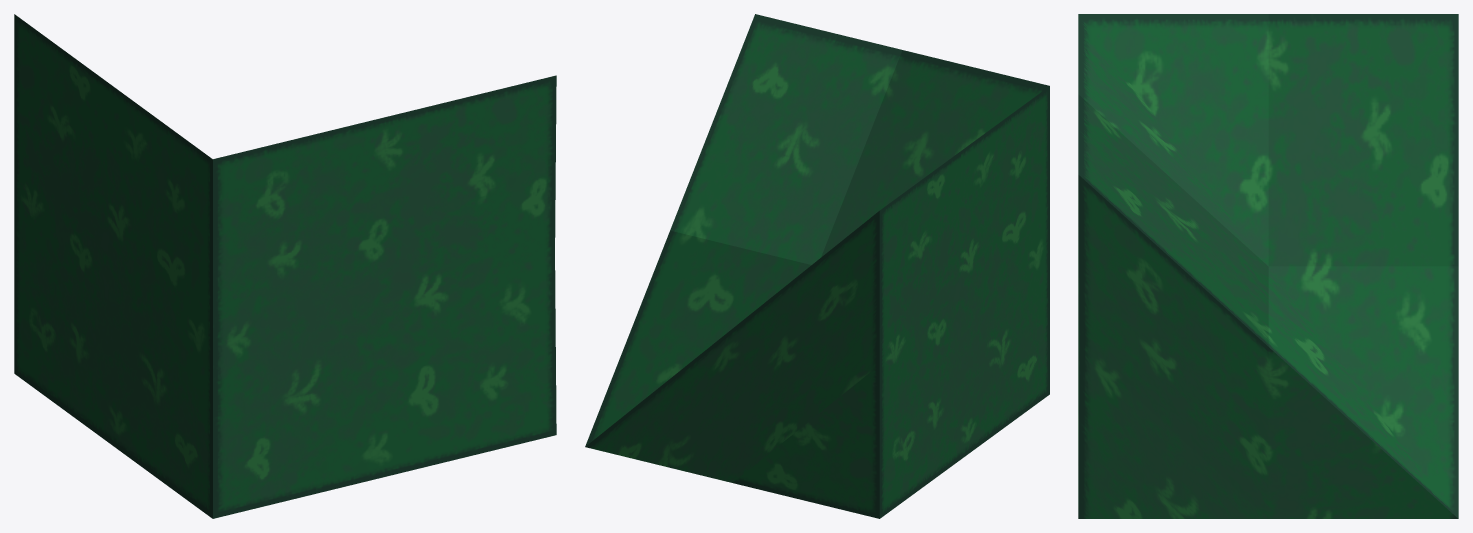
Rendered from 6_grass.obj.
The picture shows the model from 3 angles, left to right: view 1: azimuth 30°, elevation 25°; view 2: azimuth 150°, elevation 25°; view 3: azimuth 270°, elevation 25°; orthographic projection. The views are drawn at different scales.
Parts seen in each view (by area): view 1: 6_grass; view 2: 6_grass; view 3: 6_grass.
Boxes of the visible parts, x1=… form: 6_grass: x1=14, y1=14, x2=556, y2=518; 6_grass: x1=585, y1=14, x2=1049, y2=518; 6_grass: x1=1078, y1=14, x2=1458, y2=518.
Bounding box in the file's own units: 1 × 1 × 1.
1 material, 1 textured.
